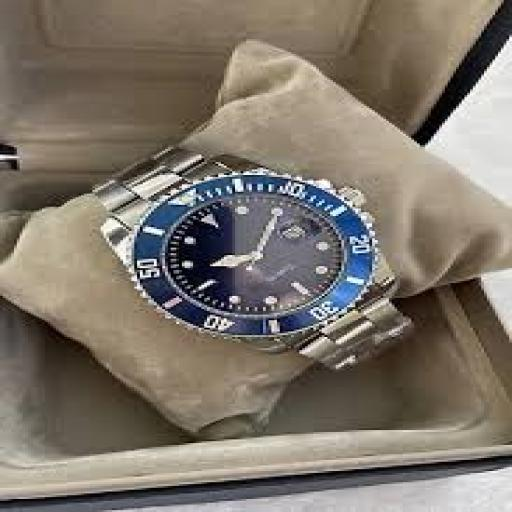KolSaati: (78, 115, 422, 391)
